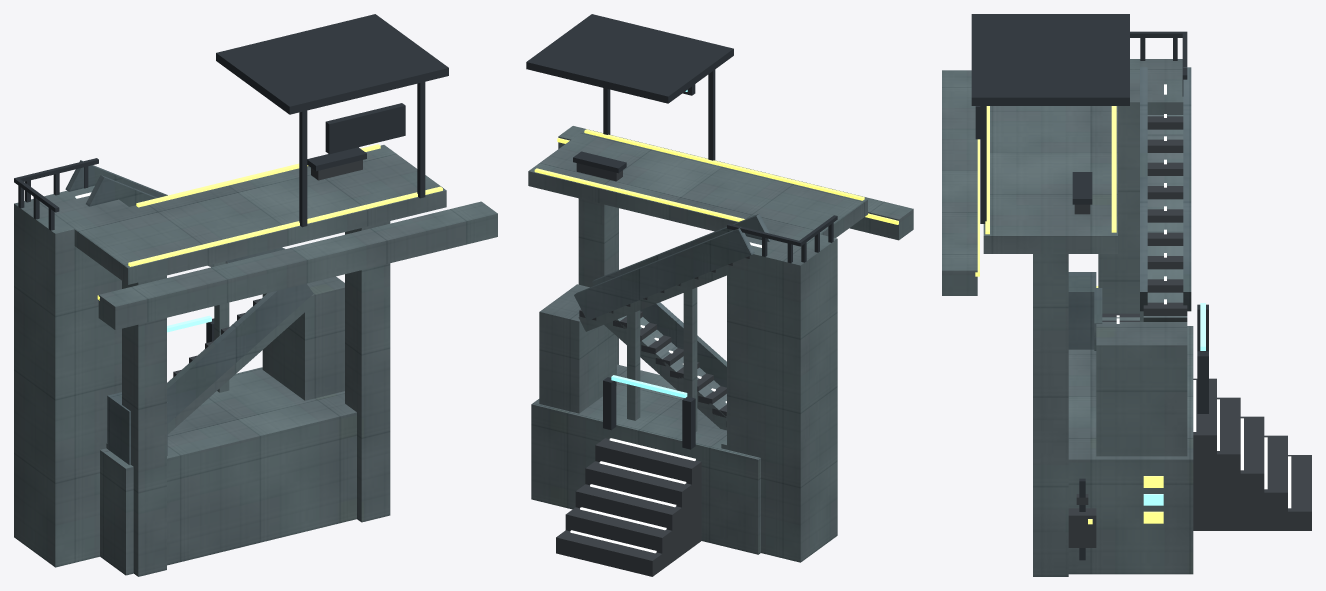
File: synthwave-halt.glb
The picture shows the model from 3 angles, left to right: view 1: azimuth 30°, elevation 25°; view 2: azimuth 150°, elevation 25°; view 3: azimuth 270°, elevation 25°; orthographic projection. The views are drawn at different scales.
Visible parts, largest first — view 1: Halt_Body2, Halt_Frame, Halt_Body, Halt_PlatWarn, Halt_Door; view 2: Halt_Body2, Halt_Door, Halt_Frame, Halt_Body, Halt_PlatWarn, Halt_SubNose, Halt_PaneADim; view 3: Halt_Body2, Halt_Door, Halt_Frame, Halt_Body, Halt_PlatWarn, Halt_SubNose, Halt_DimB.
Part boxes in pixels (left/top/right/bottom): Halt_Body2: left=14, top=145, right=497, bottom=576; Halt_Frame: left=14, top=14, right=448, bottom=342; Halt_Body: left=65, top=160, right=313, bottom=464; Halt_PlatWarn: left=128, top=144, right=442, bottom=266; Halt_Door: left=173, top=160, right=362, bottom=377; Halt_Body2: left=528, top=126, right=913, bottom=562; Halt_Door: left=556, top=163, right=749, bottom=576; Halt_Frame: left=526, top=14, right=837, bottom=449; Halt_Body: left=574, top=213, right=772, bottom=387; Halt_PlatWarn: left=534, top=129, right=864, bottom=221; Halt_SubNose: left=570, top=242, right=761, bottom=553; Halt_PaneADim: left=611, top=375, right=687, bottom=397; Halt_Body2: left=942, top=59, right=1193, bottom=576; Halt_Door: left=1068, top=116, right=1311, bottom=547; Halt_Frame: left=971, top=14, right=1208, bottom=560; Halt_Body: left=1068, top=67, right=1191, bottom=350; Halt_PlatWarn: left=985, top=106, right=1116, bottom=234; Halt_SubNose: left=1116, top=84, right=1291, bottom=508; Halt_DimB: left=975, top=139, right=1163, bottom=524.
Size of the model in its own units: 1.2 by 1.38 by 0.935.
11 materials, 2 textured.
